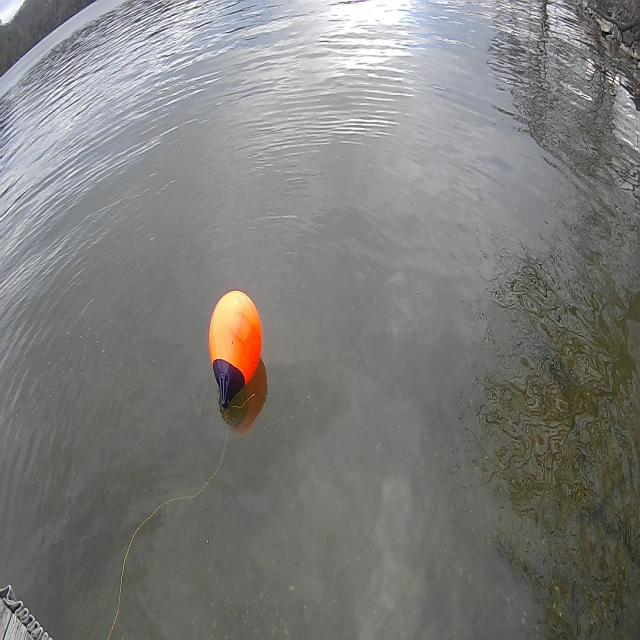Buoy: (204, 285, 266, 413)
